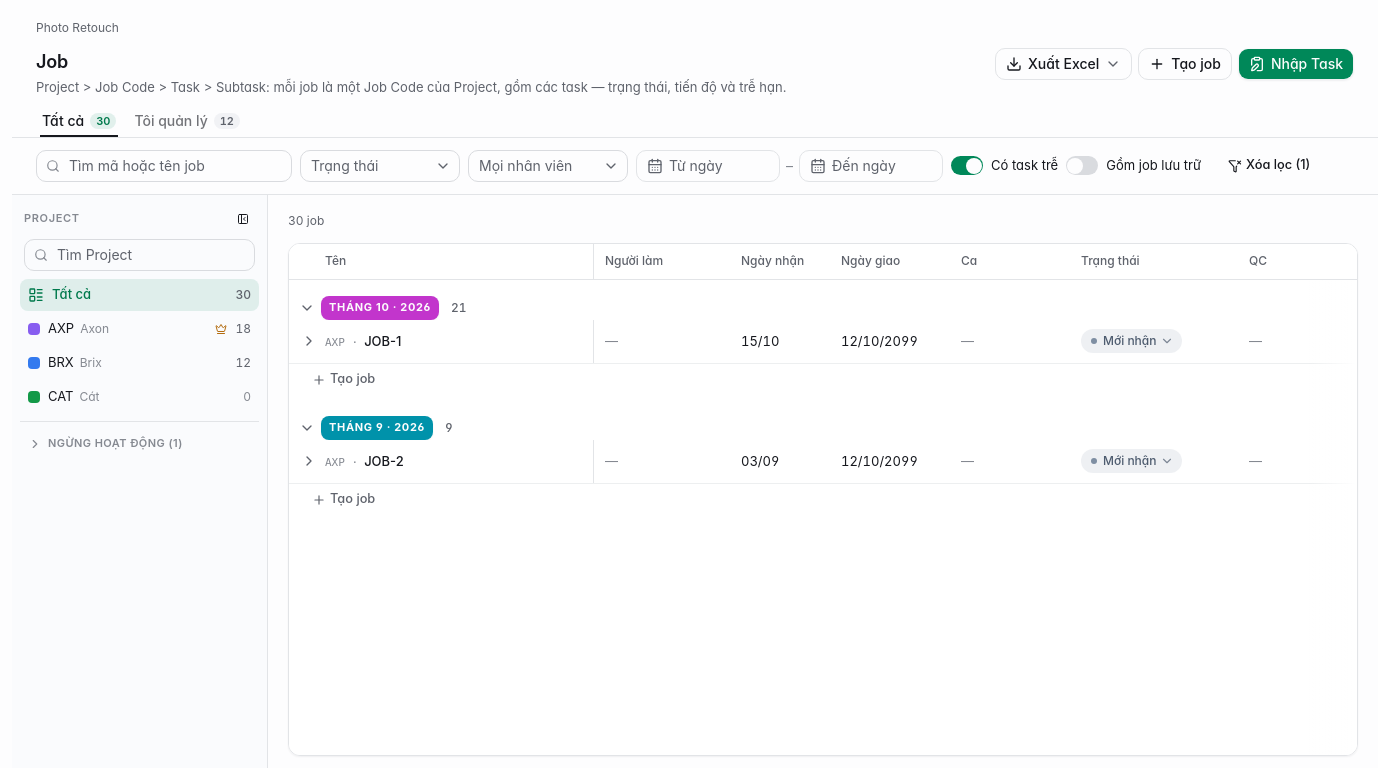
Test: /production/jobs — Tất cả / Tôi quản lý = the Projects I own (PD-073, PD-078) › Tôi quản lý is a tab, not a filter: no chip, not counted, kept by Xóa lọc; the facets follow it
Click the tab "Tôi quản lý 12" at [187, 121], box [131,108,243,133]
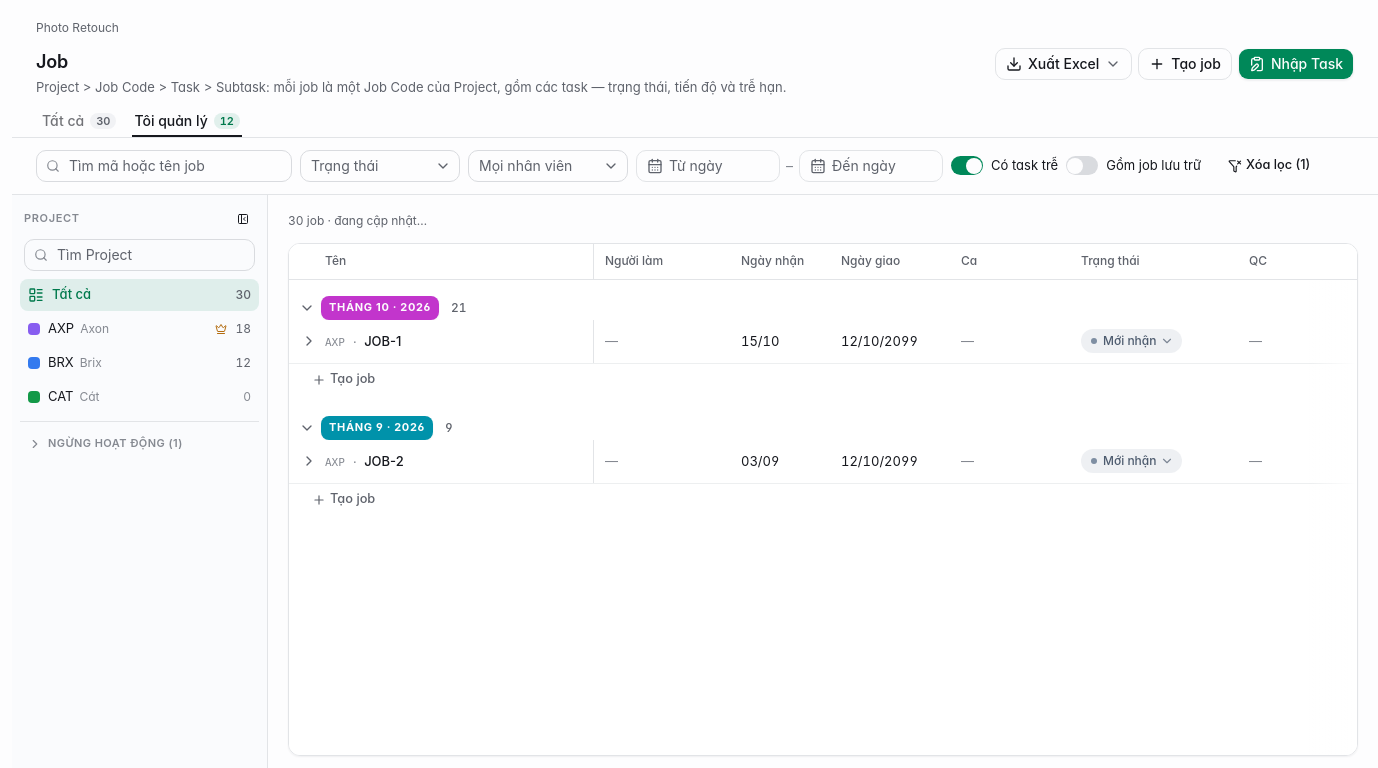
Click the button "Xóa lọc (1)" at [1269, 166], box [1217,152,1321,180]
(page scrolled)
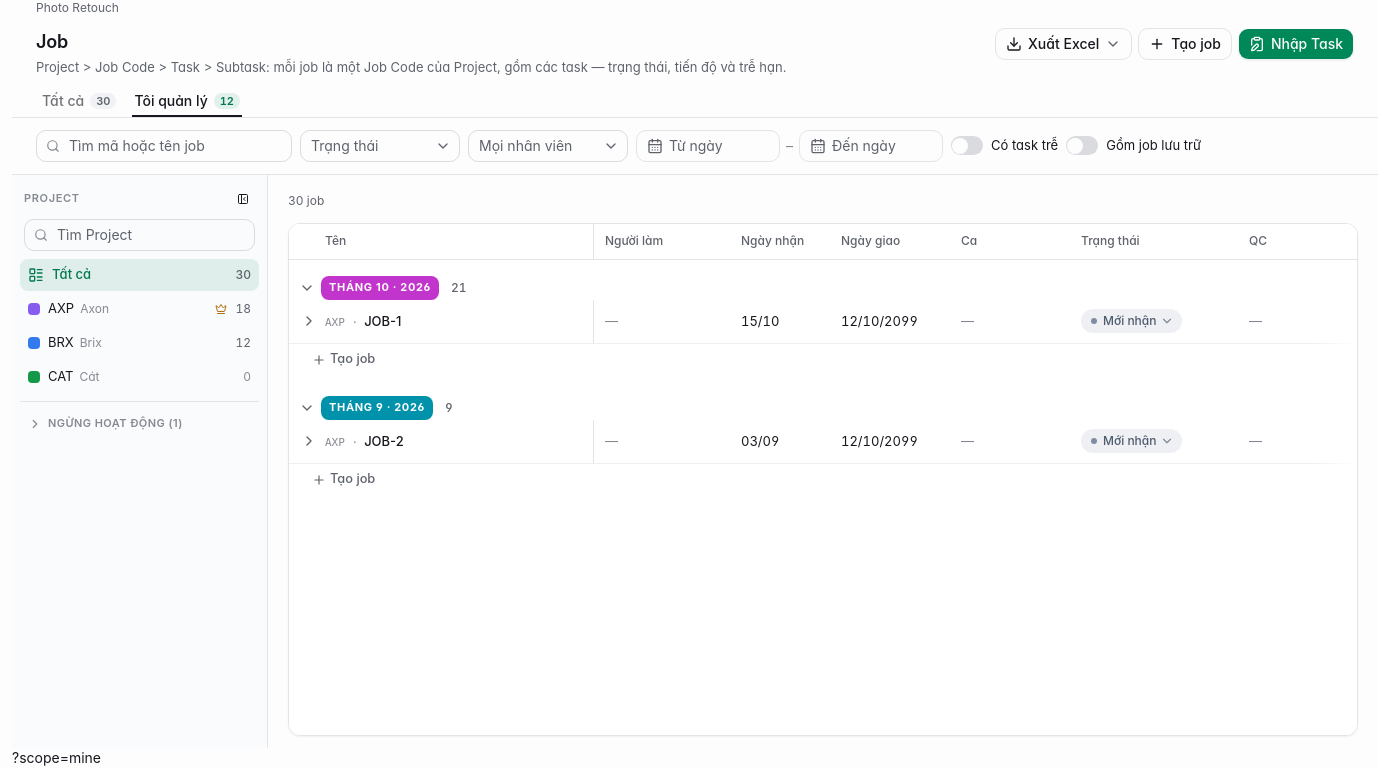
Expected: the text with test id "location" reads "?scope=mine", [12,749,101,766]
